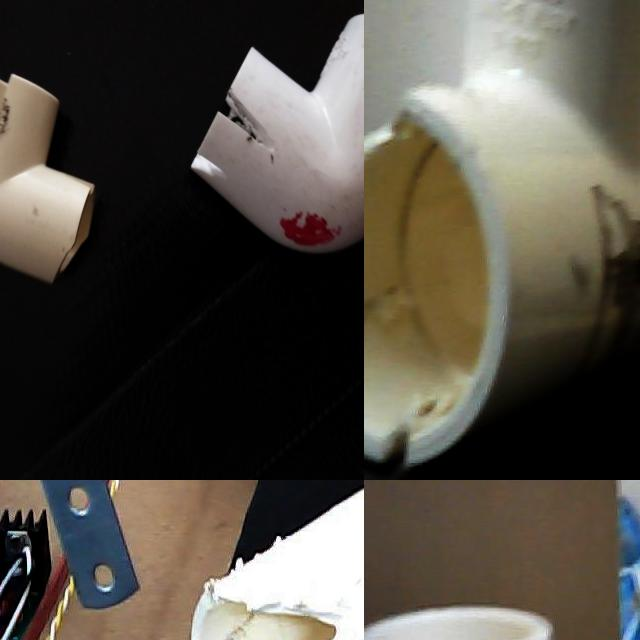Defective: (364, 293, 455, 438), (589, 187, 640, 374), (217, 581, 364, 640), (389, 83, 459, 159), (75, 419, 154, 477), (111, 369, 139, 480), (364, 121, 419, 164), (96, 85, 150, 122)
L Joint: (0, 43, 152, 241), (6, 362, 191, 480)
T Joint: (191, 486, 364, 640)
